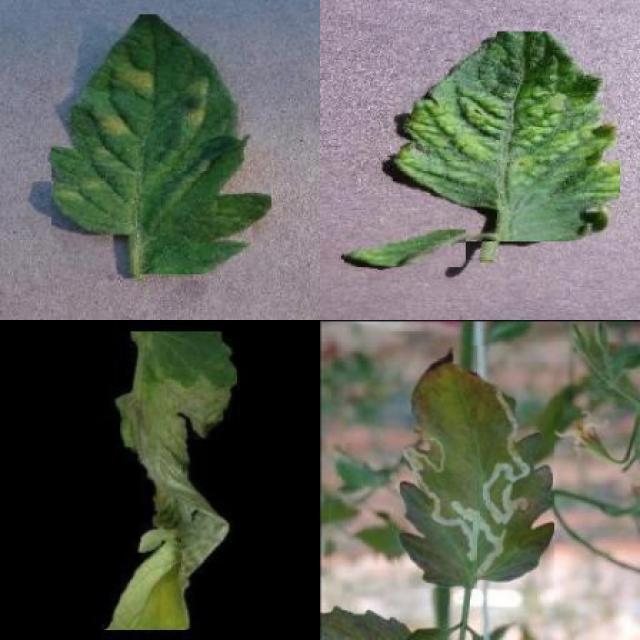Late Blight: (100, 332, 237, 629)
Leaf Miner: (398, 346, 555, 588)
Leaf Mold: (51, 15, 272, 275)
Mosaic Virus: (393, 32, 620, 242), (344, 226, 466, 267)
